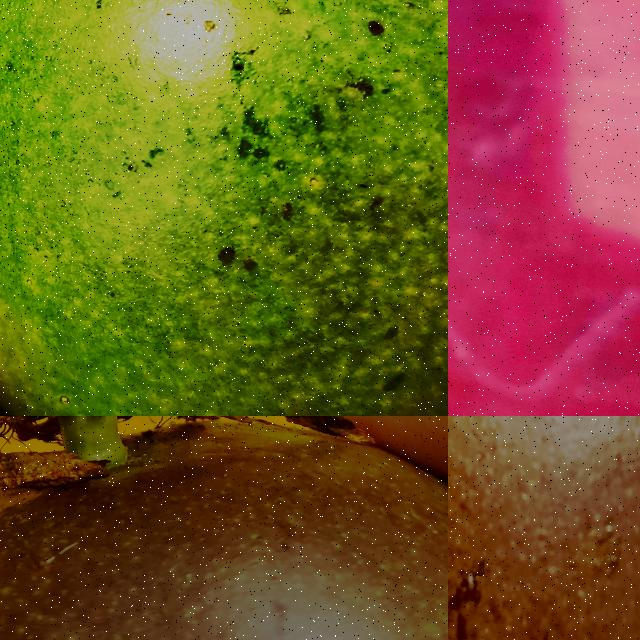Estado-4: (0, 416, 448, 640)
Estado-6: (448, 416, 640, 640)
